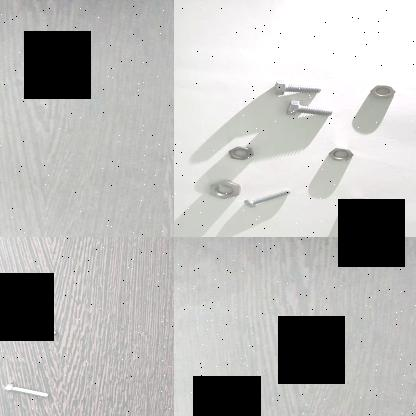Bolts: (268, 78, 326, 100), (240, 187, 292, 211), (14, 314, 59, 341), (4, 376, 49, 402), (283, 99, 335, 119)
NUTS: (336, 196, 376, 220), (206, 178, 240, 200), (324, 145, 354, 163), (225, 144, 253, 162), (366, 84, 400, 98)
